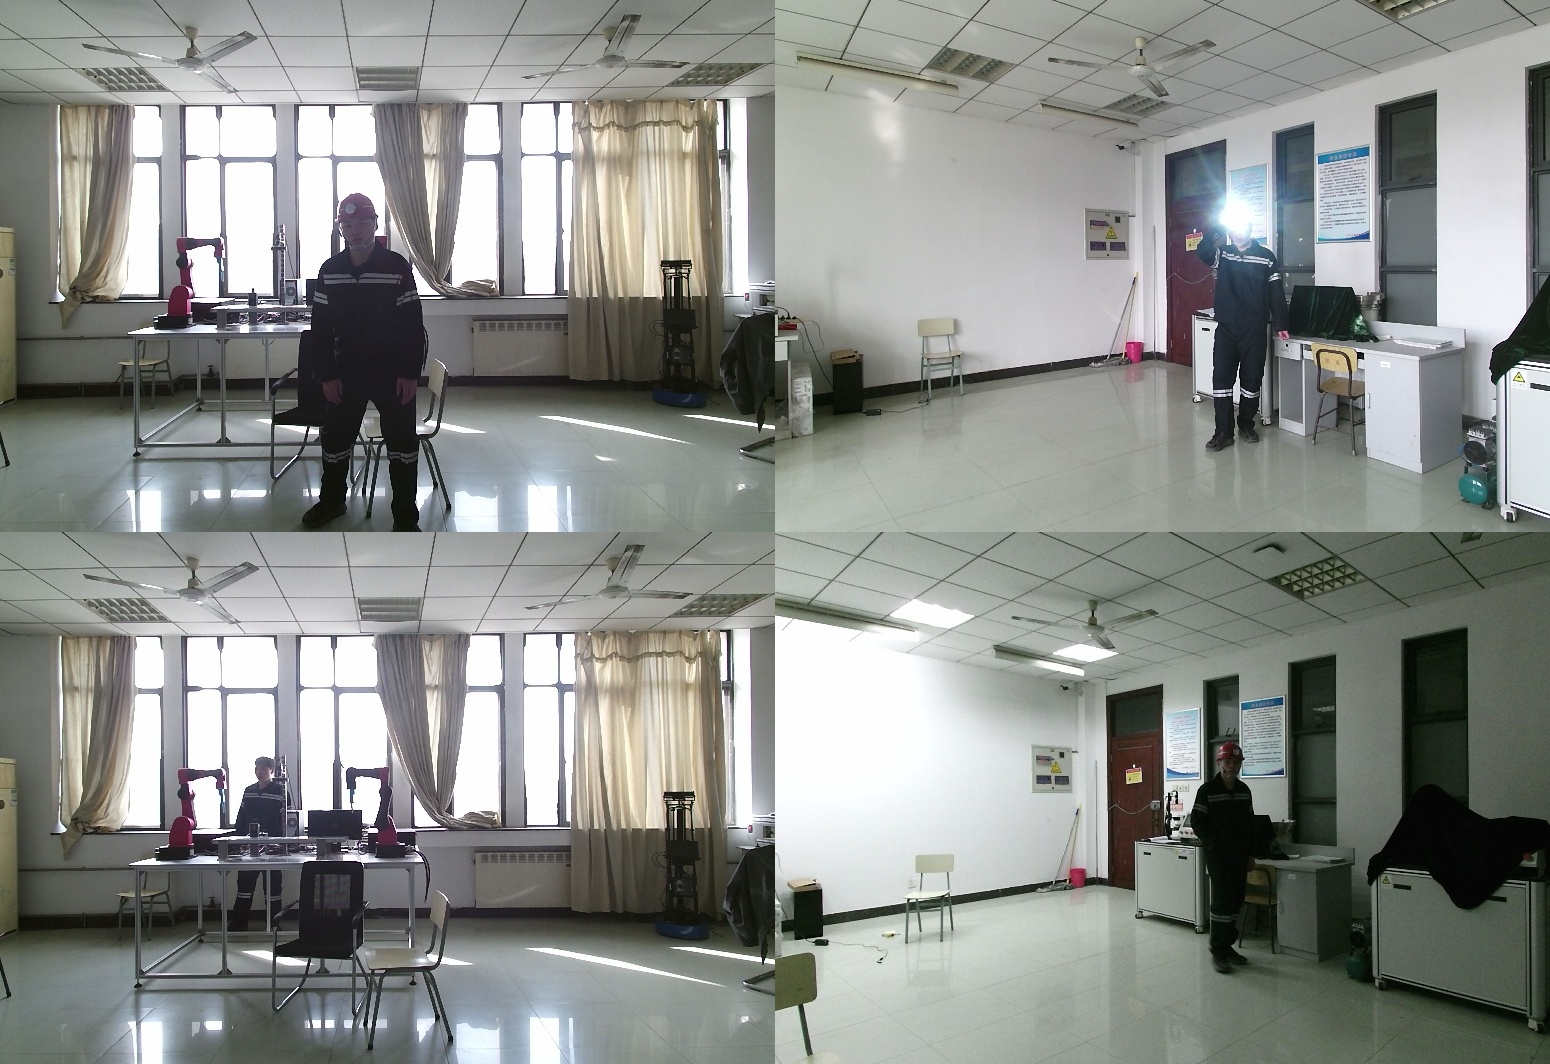person: (303, 191, 440, 532), (1197, 205, 1297, 451), (1187, 742, 1259, 973), (229, 756, 297, 934)
